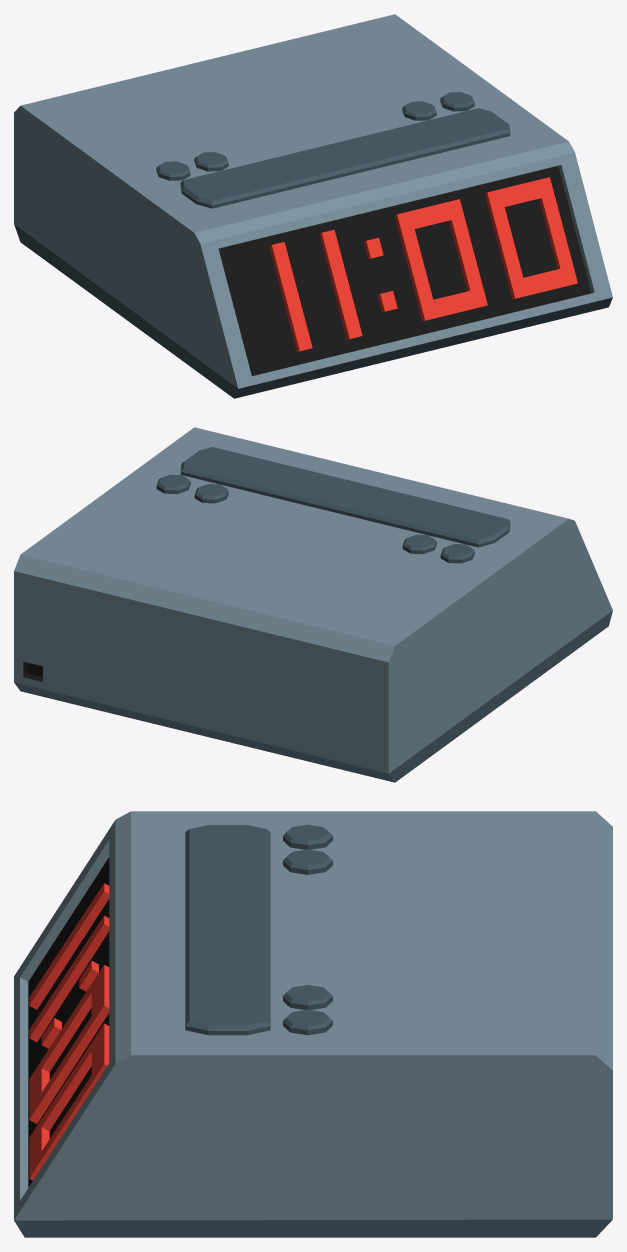
Rendered from Digital clock.glb.
The picture shows the model from 3 angles, top to bottom: view 1: azimuth 30°, elevation 25°; view 2: azimuth 150°, elevation 25°; view 3: azimuth 270°, elevation 25°; orthographic projection. The views are drawn at different scales.
Visible parts, largest first — view 1: Digital_clock_Cube; view 2: Digital_clock_Cube; view 3: Digital_clock_Cube.
Part boxes in pixels (bbox=[...]): Digital_clock_Cube: bbox=[14, 14, 612, 398]; Digital_clock_Cube: bbox=[14, 427, 612, 782]; Digital_clock_Cube: bbox=[14, 811, 612, 1237].
Bounding box in the file's own units: 9.98 × 3.79 × 10.35.
